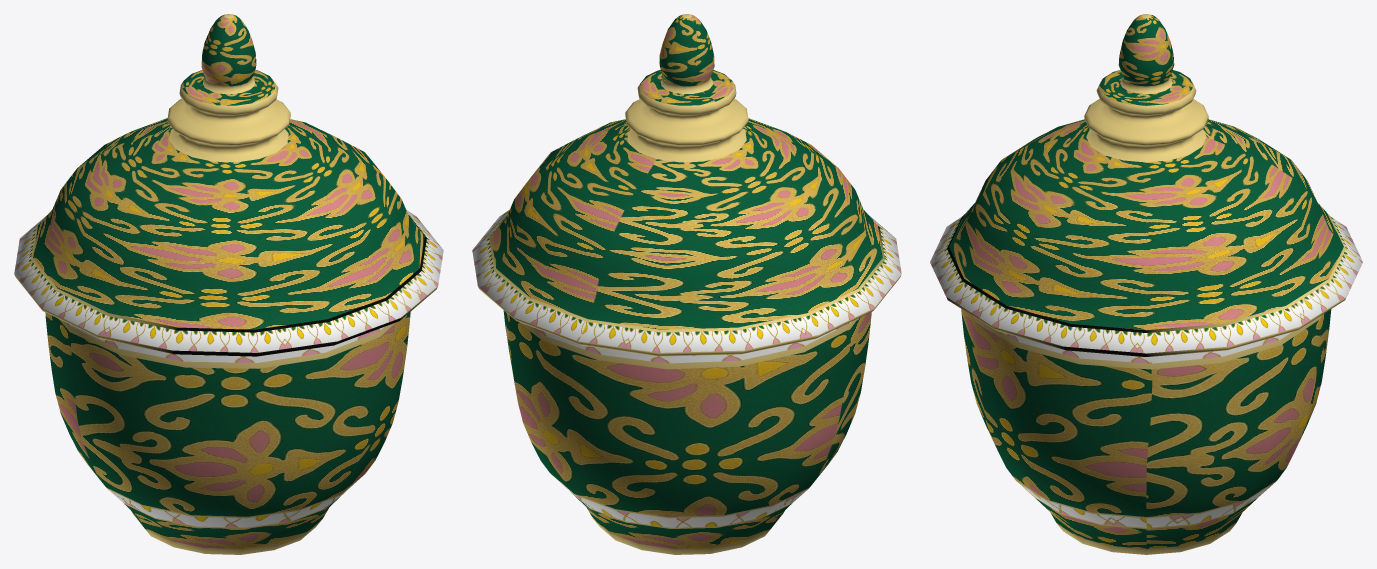
Rendered from benjarong.fbx.
3 views of the same model, side by side, from view 1: azimuth 30°, elevation 25°; view 2: azimuth 150°, elevation 25°; view 3: azimuth 270°, elevation 25° (orthographic).
Parts seen in each view (by area): view 1: Banjarong cap.001, Benjarong body.001; view 2: Banjarong cap.001, Benjarong body.001; view 3: Banjarong cap.001, Benjarong body.001.
Part boxes in pixels (box(x1,y1,x2,y2)): Banjarong cap.001: box(14, 14, 443, 356); Benjarong body.001: box(45, 312, 410, 554); Banjarong cap.001: box(472, 14, 901, 356); Benjarong body.001: box(503, 310, 871, 554); Banjarong cap.001: box(930, 14, 1362, 356); Benjarong body.001: box(961, 309, 1331, 554).
Size of the model in its own units: 0.1686 by 0.22 by 0.1686.
